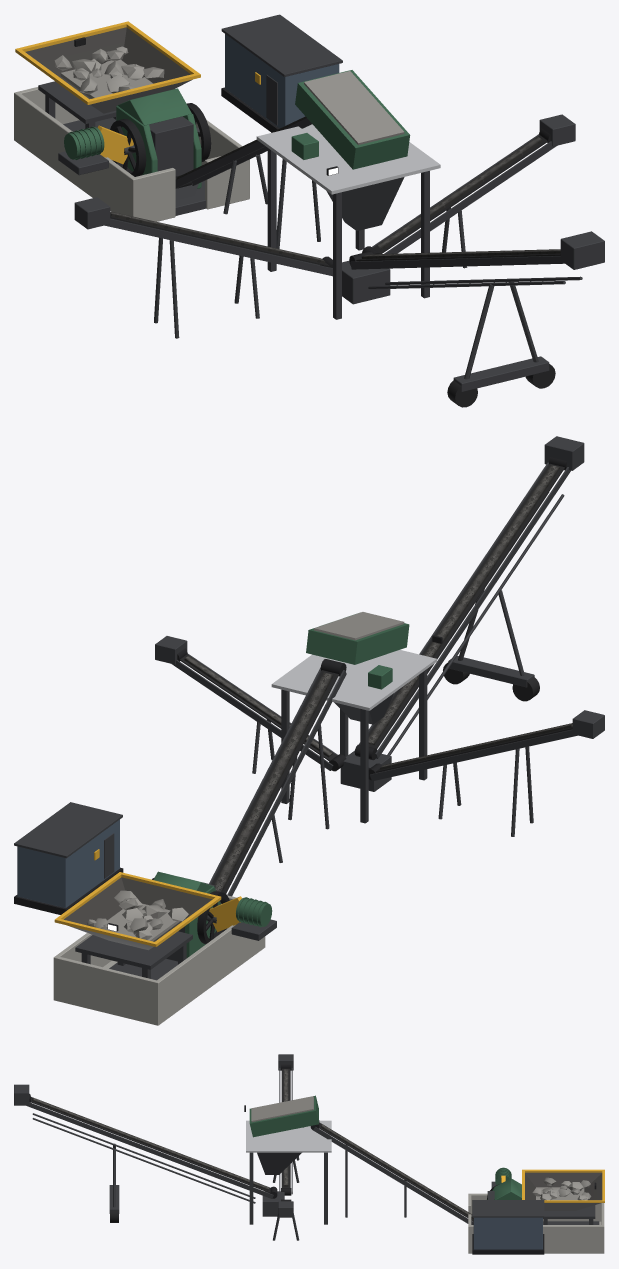
Rendered from crusher_plant_LOD1.glb.
3 renders of one model, top to bottom at view 1: azimuth 30°, elevation 25°; view 2: azimuth 150°, elevation 25°; view 3: azimuth 270°, elevation 25°, orthographic. The views are drawn at different scales.
Visible parts, largest first — view 1: Body_LOD1, ScreenBox_LOD1, FlywheelRight_LOD1, FlywheelLeft_LOD1; view 2: Body_LOD1, ScreenBox_LOD1; view 3: Body_LOD1, ScreenBox_LOD1.
Part boxes in pixels (x1=…): Body_LOD1: x1=14, y1=14, x2=604, y2=407; ScreenBox_LOD1: x1=295, y1=70, x2=410, y2=169; FlywheelRight_LOD1: x1=110, y1=119, x2=146, y2=176; FlywheelLeft_LOD1: x1=187, y1=103, x2=211, y2=161; Body_LOD1: x1=14, y1=436, x2=604, y2=1025; ScreenBox_LOD1: x1=306, y1=612, x2=409, y2=664; Body_LOD1: x1=14, y1=1054, x2=604, y2=1254; ScreenBox_LOD1: x1=249, y1=1095, x2=318, y2=1137.
Size of the model in its own units: 32.62 by 16.69 by 59.92.
13 materials, 1 textured.
